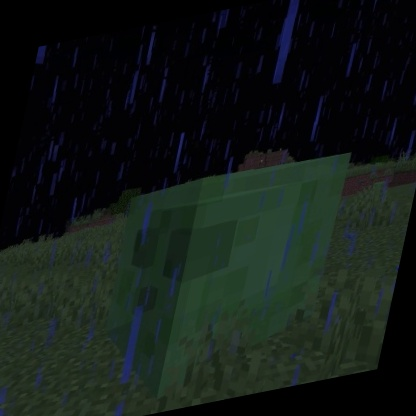slime: (78, 142, 360, 416)
